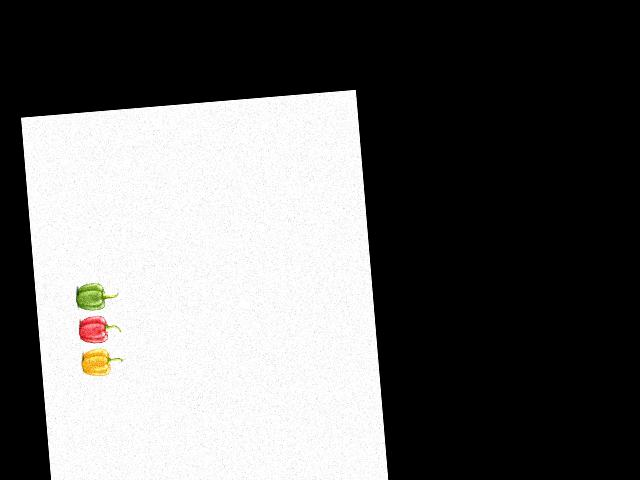bell_pepper: (72, 278, 119, 311)
